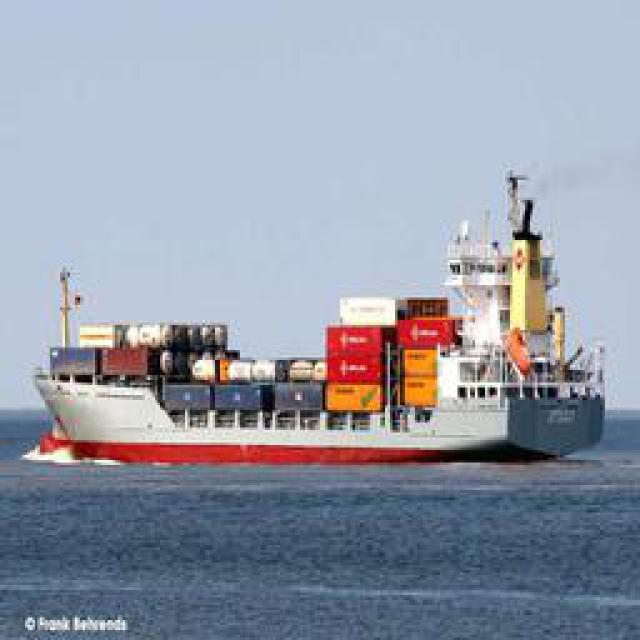Ship: (34, 165, 599, 470)
